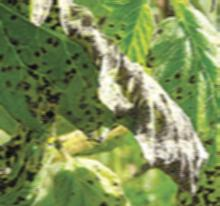Tomato Septoria leaf spot: (0, 0, 207, 178), (147, 0, 220, 206), (49, 155, 162, 206)
